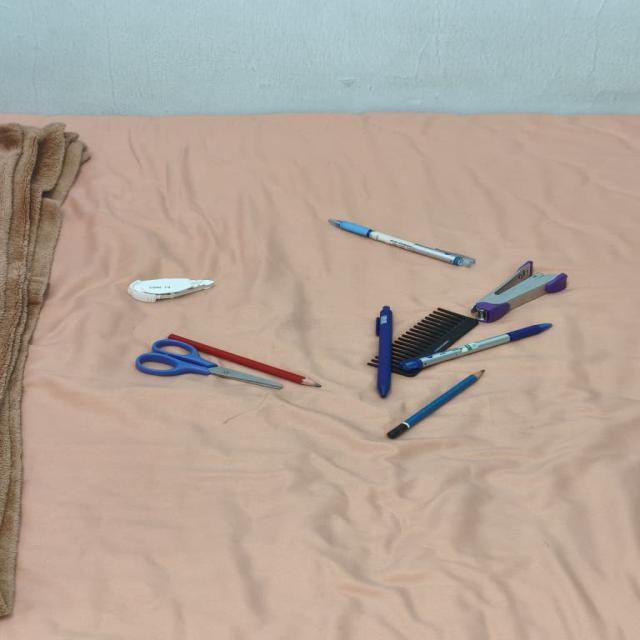pen: (398, 324, 552, 372), (329, 219, 474, 266), (377, 306, 392, 397)
pencil: (168, 334, 320, 386), (387, 371, 483, 439)
scissor: (136, 339, 282, 389)
stapler: (471, 261, 567, 322)
